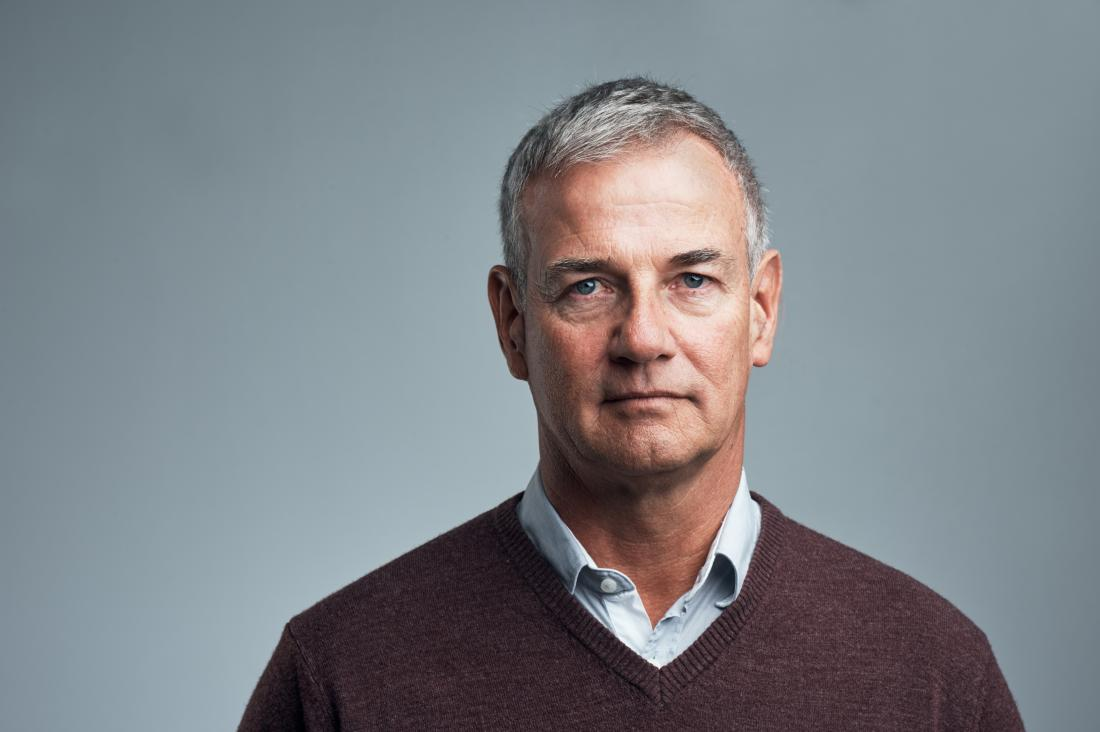Without Helmet: (483, 63, 801, 520)
